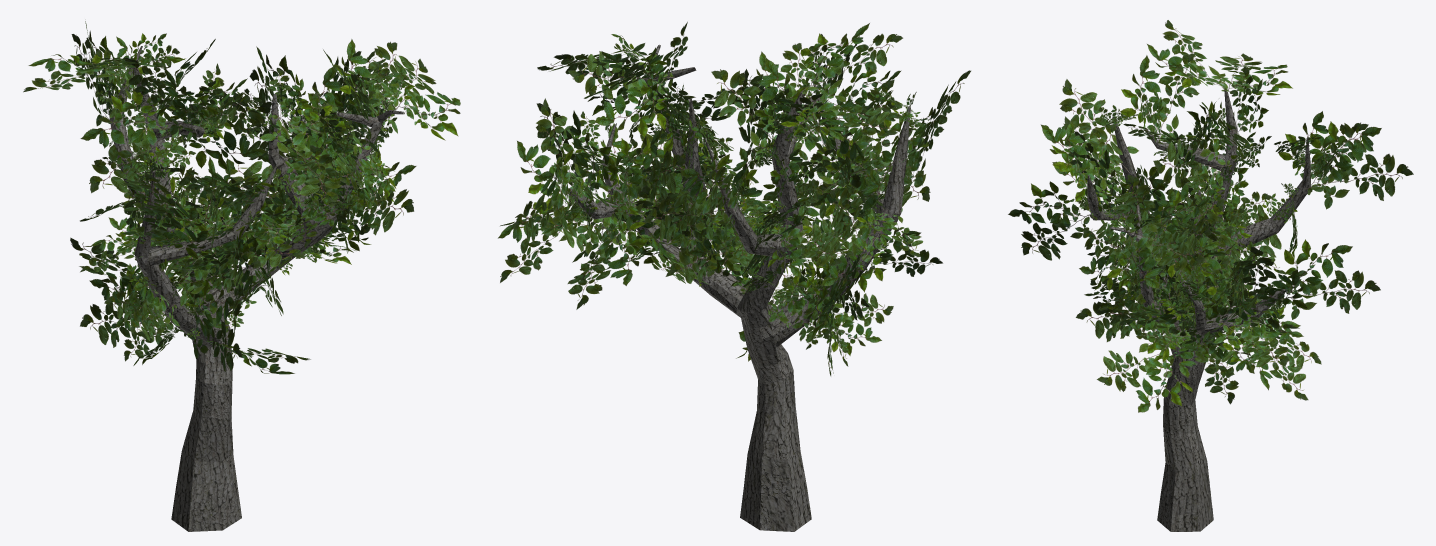
Rendered from tree_1_merged.glb.
3 views of the same model, side by side, from view 1: azimuth 30°, elevation 25°; view 2: azimuth 150°, elevation 25°; view 3: azimuth 270°, elevation 25° (orthographic). The views are drawn at different scales.
Parts seen in each view (by area): view 1: Branchs; view 2: Branchs; view 3: Branchs.
Boxes of the visible parts, left/top/right/bottom form: Branchs: left=23, top=21, right=460, bottom=531; Branchs: left=498, top=21, right=970, bottom=531; Branchs: left=1008, top=20, right=1413, bottom=531.
Bounding box in the file's own units: 14.84 × 17.65 × 14.71.
2 materials, 2 textured.
